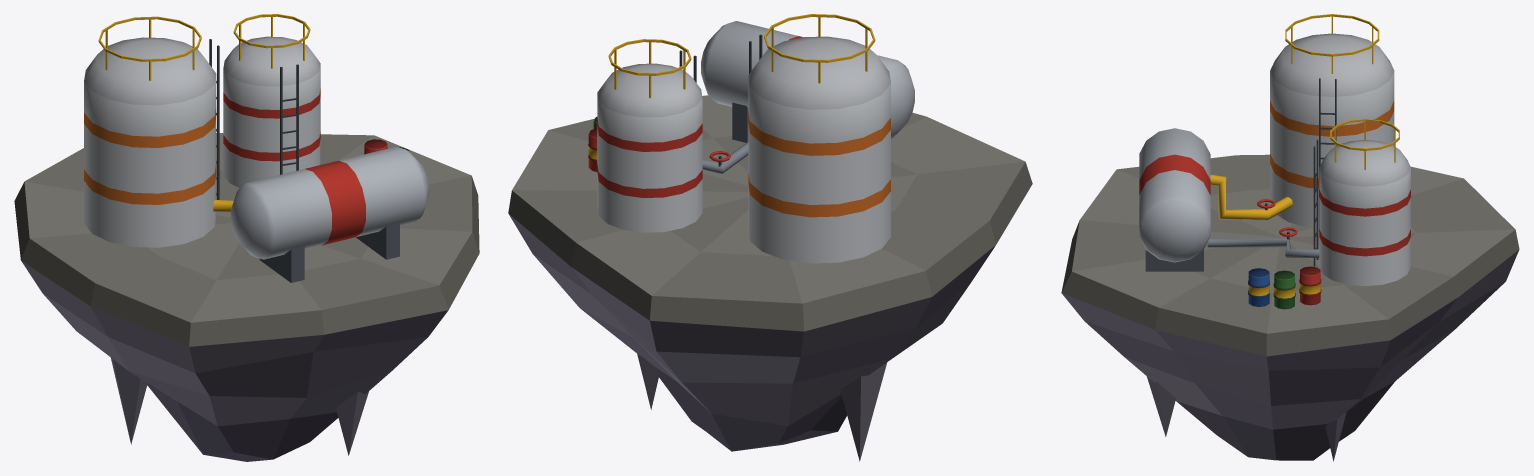
Rendered from tank_island.glb.
3 views of the same model, side by side, from view 1: azimuth 30°, elevation 25°; view 2: azimuth 150°, elevation 25°; view 3: azimuth 270°, elevation 25° (orthographic). The views are drawn at different scales.
Parts seen in each view (by area): view 1: Rock, Tanks; view 2: Rock, Tanks; view 3: Rock, Tanks.
Part boxes in pixels (<box>): Rock: <box>14,133,479,461</box>; Tanks: <box>84,14,429,282</box>; Rock: <box>508,95,1032,461</box>; Tanks: <box>588,14,914,263</box>; Rock: <box>1061,154,1519,461</box>; Tanks: <box>1139,14,1410,309</box>.
Size of the model in its own units: 12.04 by 11.7 by 12.52.
